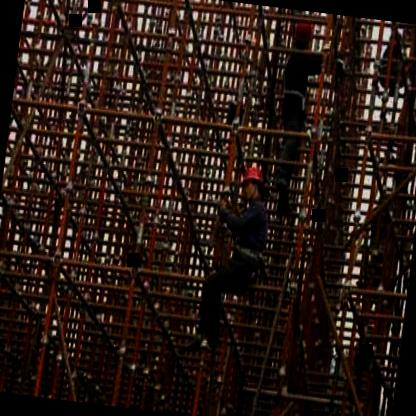helmet: (288, 9, 322, 55), (238, 161, 268, 206)
